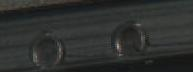joints: (109, 19, 149, 58), (28, 28, 66, 68)
